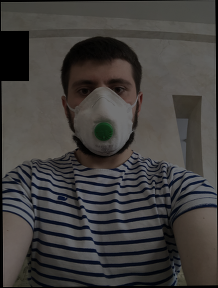with_mask: (69, 67, 137, 158)
